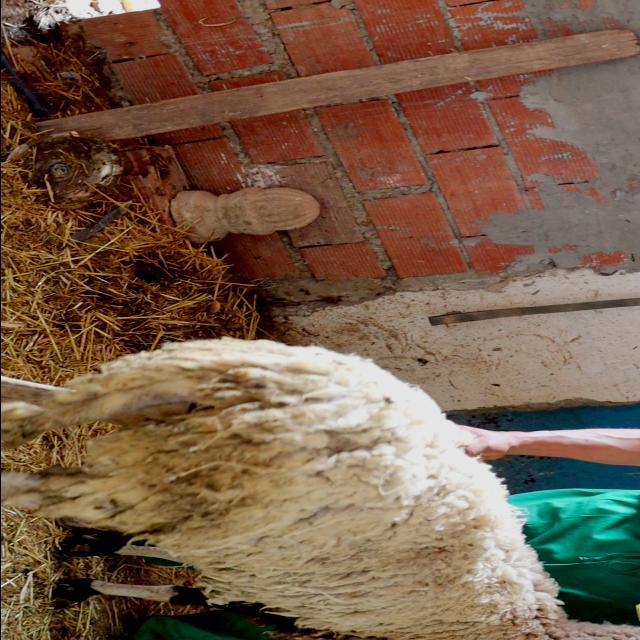Score_2: (1, 337, 638, 640)
